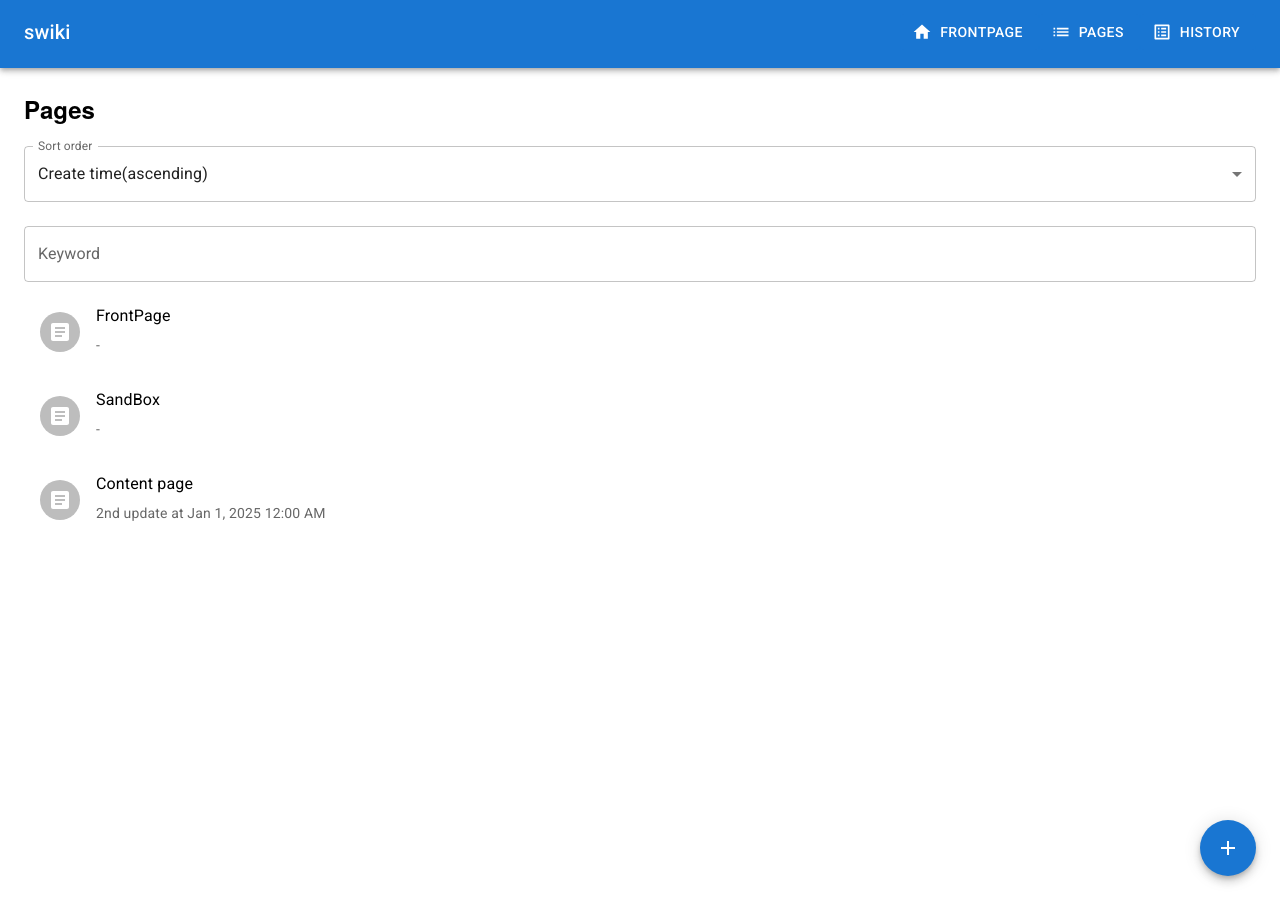
Test: route › Pages › navigation › page list › should move to FrontPage when $title button in page list is pressed
The width and height of the screenshot is (1280, 900).
Click the button "FrontPage -".
click(60, 332)  # box top-left (40, 306), bottom-right (171, 353)
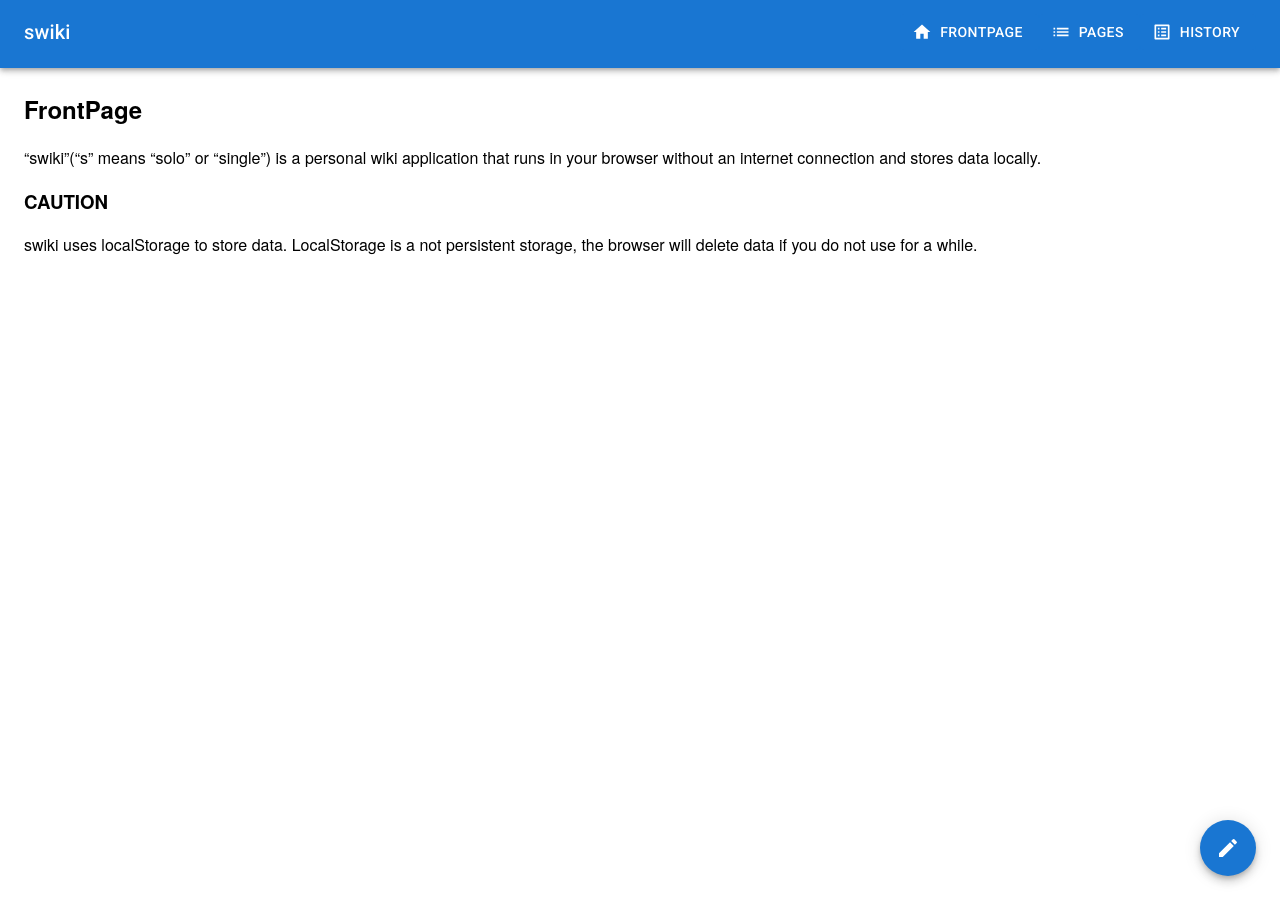
Expected: the heading "FrontPage" is shown, top-left (24, 92), bottom-right (142, 126)
